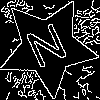N: (23, 22, 74, 79)
